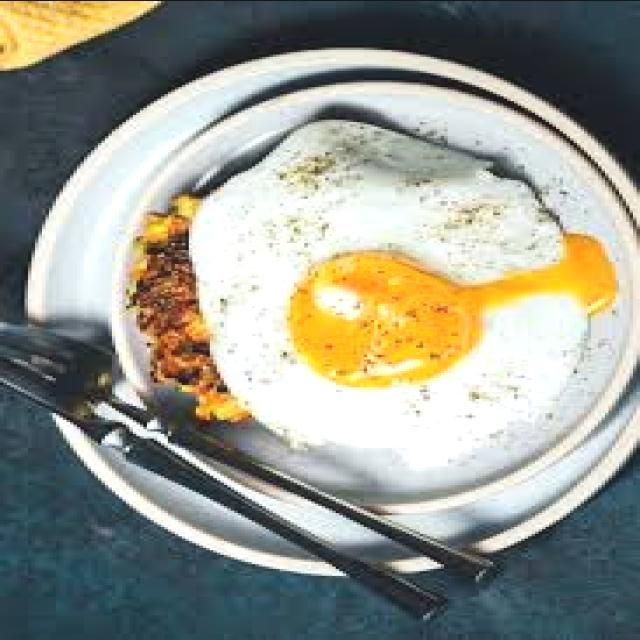telur ceplok: (189, 119, 616, 451)
